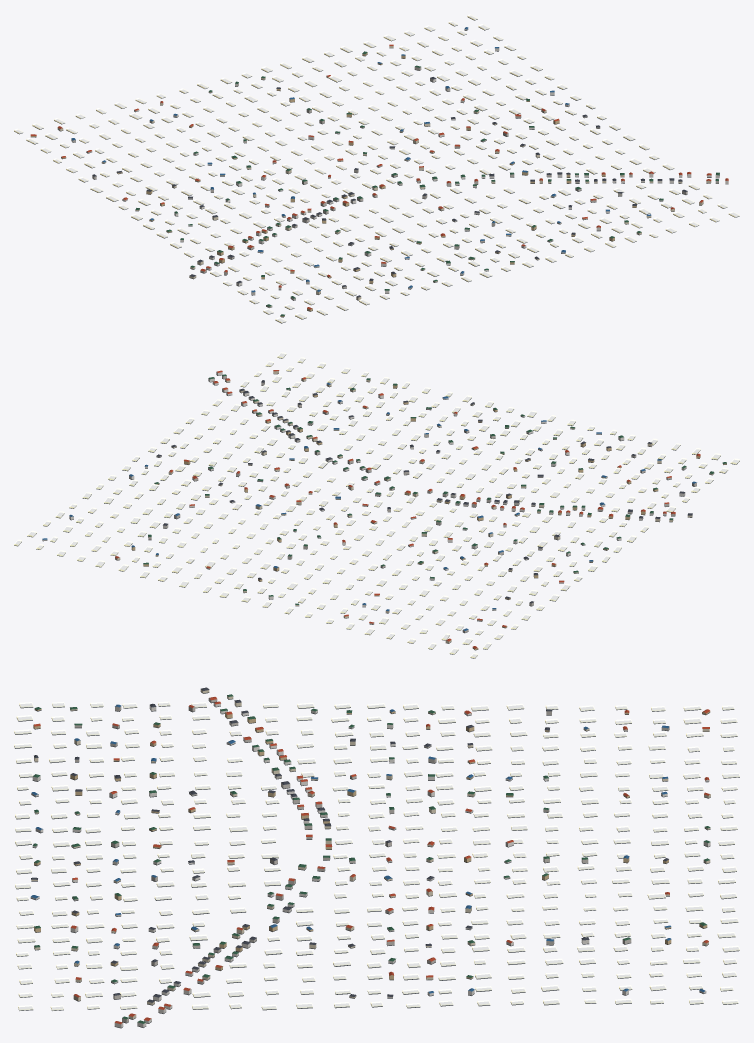
File: buildings_T_W03_S01.glb
3 renders of one model, top to bottom at view 1: azimuth 30°, elevation 25°; view 2: azimuth 150°, elevation 25°; view 3: azimuth 270°, elevation 25°, orthographic. The views are drawn at different scales.
Visible parts, largest first — view 1: T_W03_S01_roofs_agri_greenhouse_arch, T_W03_S01_slope_seating_foundations, T_W03_S01_walls_wall_modern_warm_white, T_W03_S01_roofs_roof_pine_green_hip, T_W03_S01_walls_wall_pastel_sand_gray, T_W03_S01_roofs_roof_terracotta_gable, T_W03_S01_walls_wall_dalat_cream_stucco, T_W03_S01_walls_wall_french_ochre_villa, T_W03_S01_roofs_roof_slate_French_villa_hip; view 2: T_W03_S01_roofs_agri_greenhouse_arch, T_W03_S01_slope_seating_foundations, T_W03_S01_walls_wall_modern_warm_white, T_W03_S01_roofs_roof_pine_green_hip, T_W03_S01_walls_wall_dalat_cream_stucco, T_W03_S01_walls_wall_pastel_sand_gray, T_W03_S01_roofs_roof_terracotta_gable, T_W03_S01_walls_wall_french_ochre_villa, T_W03_S01_roofs_roof_slate_French_villa_hip; view 3: T_W03_S01_roofs_agri_greenhouse_arch, T_W03_S01_slope_seating_foundations, T_W03_S01_walls_wall_modern_warm_white, T_W03_S01_roofs_roof_pine_green_hip, T_W03_S01_walls_wall_pastel_sand_gray, T_W03_S01_walls_wall_dalat_cream_stucco, T_W03_S01_roofs_roof_terracotta_gable, T_W03_S01_walls_wall_french_ochre_villa, T_W03_S01_roofs_roof_slate_French_villa_hip, T_W03_S01_roofs_roof_highland_blue_gable.
Part boxes in pixels (box(x1,y1,x2,y2)): T_W03_S01_roofs_agri_greenhouse_arch: box(14, 14, 739, 322); T_W03_S01_slope_seating_foundations: box(14, 16, 739, 323); T_W03_S01_walls_wall_modern_warm_white: box(122, 28, 728, 293); T_W03_S01_roofs_roof_pine_green_hip: box(135, 51, 719, 316); T_W03_S01_walls_wall_pastel_sand_gray: box(71, 67, 718, 300); T_W03_S01_roofs_roof_terracotta_gable: box(30, 44, 728, 309); T_W03_S01_walls_wall_dalat_cream_stucco: box(57, 46, 711, 307); T_W03_S01_walls_wall_french_ochre_villa: box(30, 52, 636, 316); T_W03_S01_roofs_roof_slate_French_villa_hip: box(92, 77, 687, 297); T_W03_S01_roofs_agri_greenhouse_arch: box(14, 352, 739, 658); T_W03_S01_slope_seating_foundations: box(14, 354, 739, 658); T_W03_S01_walls_wall_modern_warm_white: box(42, 371, 685, 624); T_W03_S01_roofs_roof_pine_green_hip: box(143, 374, 726, 604); T_W03_S01_walls_wall_dalat_cream_stucco: box(115, 371, 714, 643); T_W03_S01_walls_wall_pastel_sand_gray: box(148, 375, 696, 632); T_W03_S01_roofs_roof_terracotta_gable: box(115, 370, 700, 648); T_W03_S01_walls_wall_french_ochre_villa: box(131, 384, 726, 649); T_W03_S01_roofs_roof_slate_French_villa_hip: box(156, 380, 692, 603); T_W03_S01_roofs_agri_greenhouse_arch: box(14, 701, 739, 1010); T_W03_S01_slope_seating_foundations: box(14, 691, 739, 1028); T_W03_S01_walls_wall_modern_warm_white: box(30, 703, 710, 1027); T_W03_S01_roofs_roof_pine_green_hip: box(32, 694, 710, 1023); T_W03_S01_walls_wall_pastel_sand_gray: box(72, 698, 669, 1022); T_W03_S01_walls_wall_dalat_cream_stucco: box(31, 689, 710, 1019); T_W03_S01_roofs_roof_terracotta_gable: box(34, 697, 709, 1024); T_W03_S01_walls_wall_french_ochre_villa: box(33, 709, 710, 979); T_W03_S01_roofs_roof_slate_French_villa_hip: box(31, 687, 668, 1002); T_W03_S01_roofs_roof_highland_blue_gable: box(31, 704, 705, 993).
Size of the model in its own units: 1921 by 31.59 by 1773.
